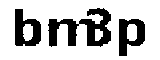3: (96, 7, 116, 50)
b: (12, 6, 45, 48)
m: (45, 15, 95, 49)
p: (116, 16, 148, 60)
